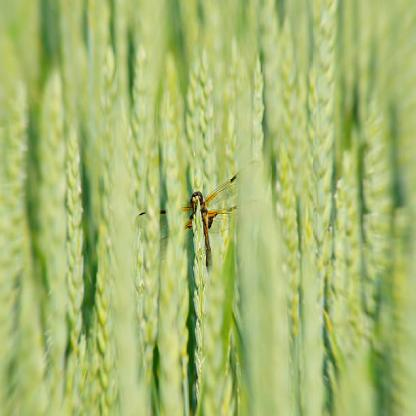sawfly: (132, 156, 263, 282)
